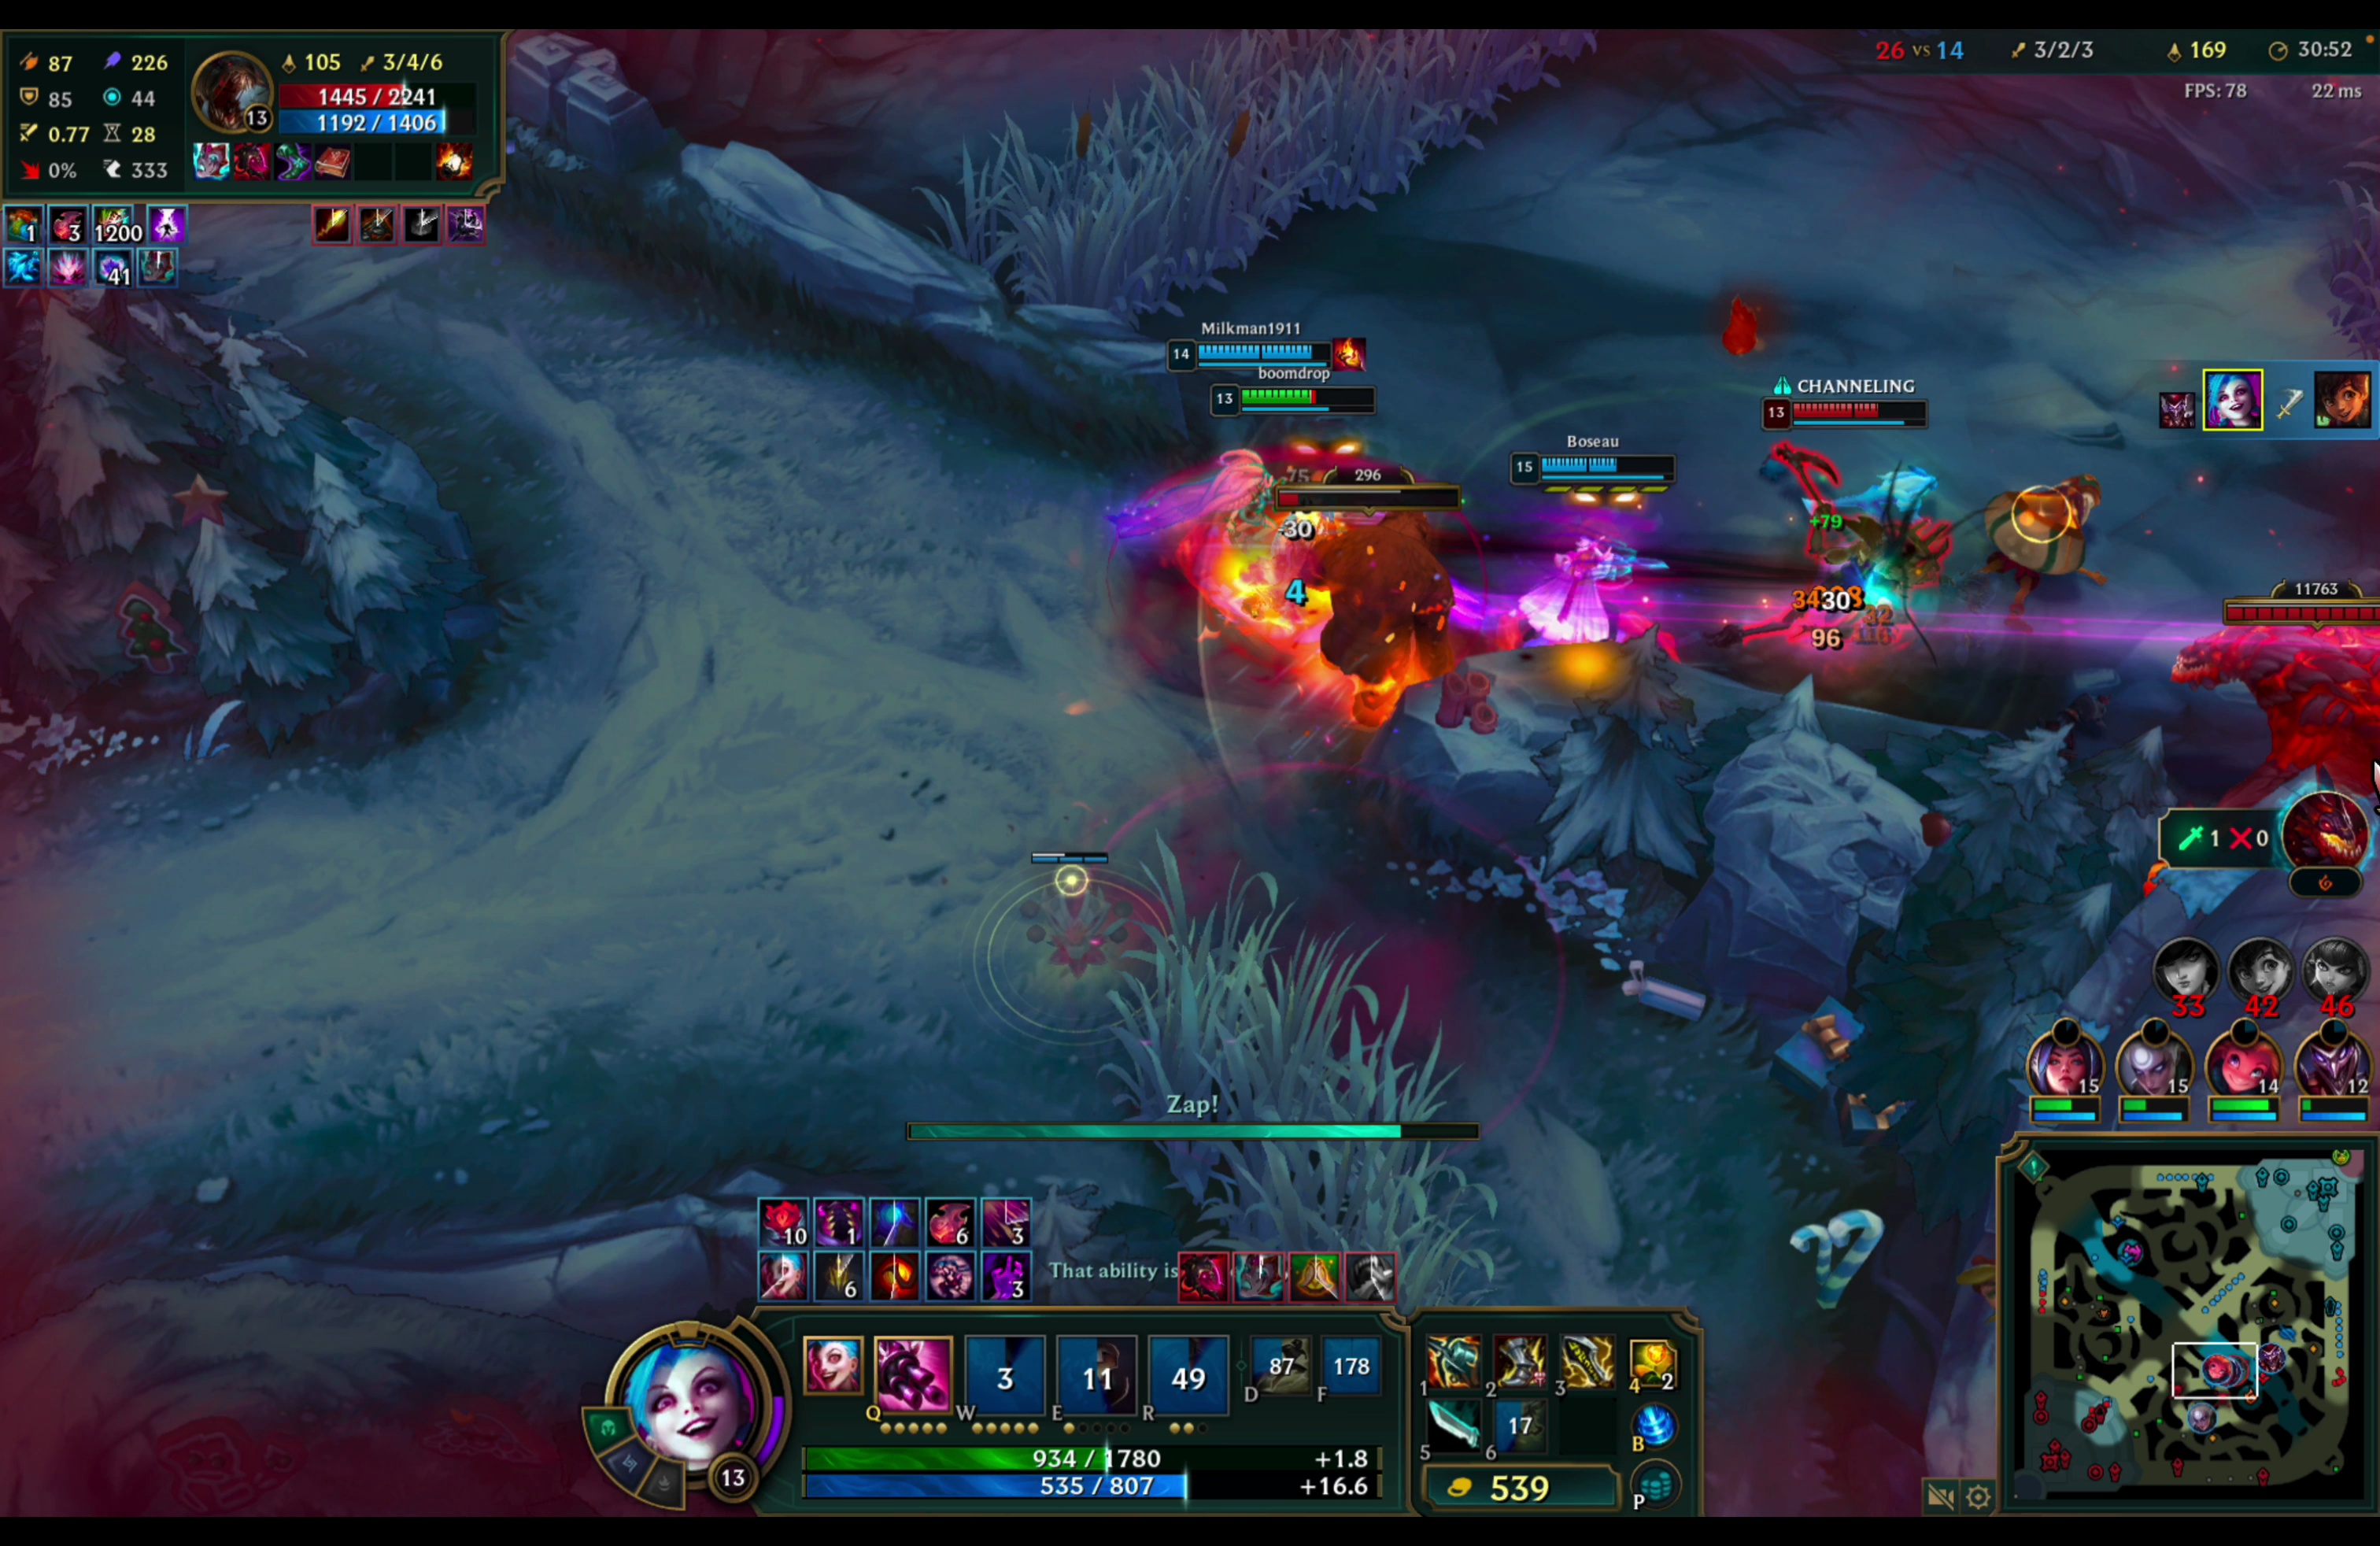JINX_W_PROJECTILE: (1199, 361, 1480, 652)
